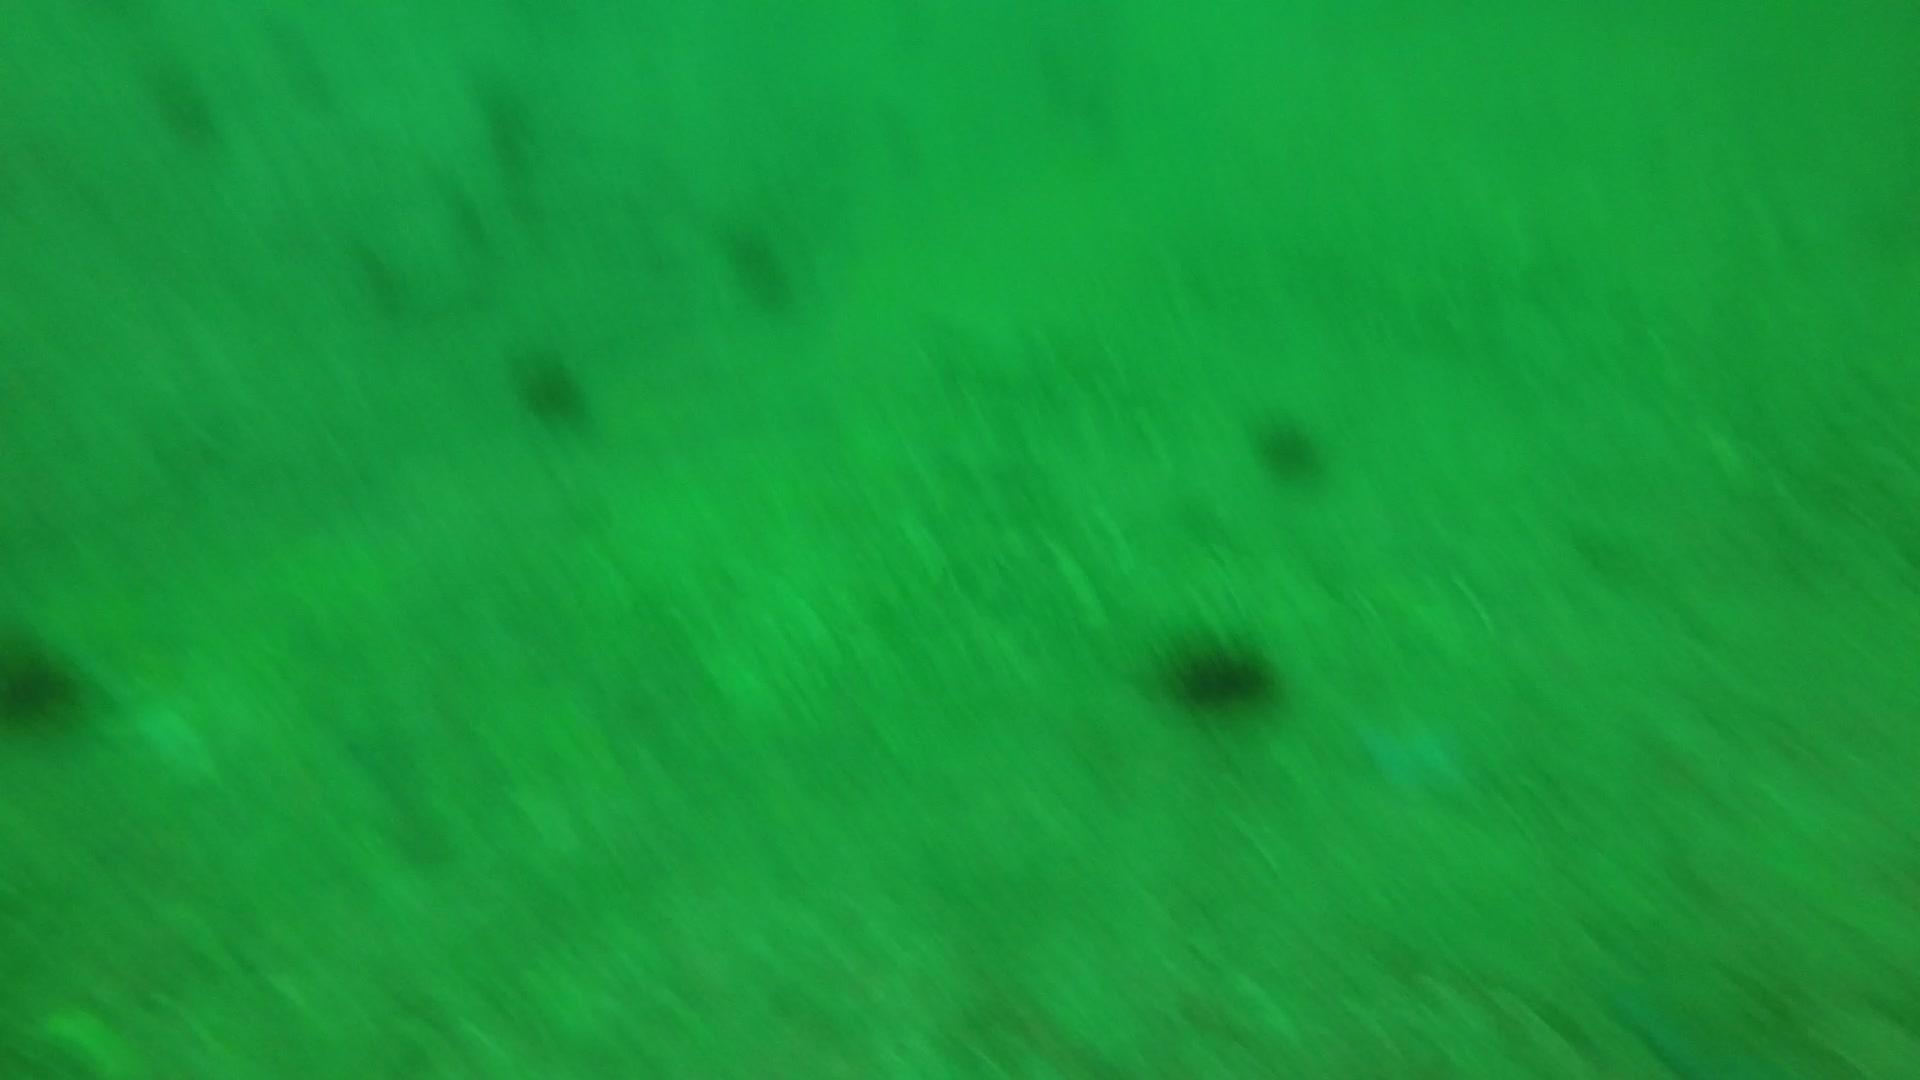echinus: (1156, 626, 1280, 717), (0, 626, 86, 736), (717, 216, 804, 313), (506, 342, 595, 430), (144, 61, 225, 150), (1247, 407, 1331, 487)
starfish: (1601, 960, 1804, 1077), (1349, 695, 1481, 808)
